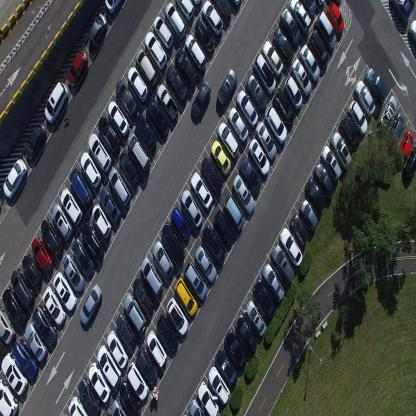car: (1, 352, 28, 396), (12, 337, 38, 379), (32, 304, 57, 347), (44, 81, 68, 125), (69, 165, 93, 209), (2, 285, 27, 327), (41, 284, 66, 326), (97, 344, 121, 387), (183, 261, 208, 302), (10, 267, 35, 308), (79, 282, 102, 326), (201, 224, 225, 266), (145, 95, 169, 137), (53, 270, 77, 312), (224, 328, 247, 371), (123, 291, 146, 334), (127, 132, 151, 173), (134, 47, 158, 88), (24, 321, 48, 362), (108, 166, 131, 208), (174, 46, 197, 88), (164, 0, 187, 42), (2, 158, 26, 198), (88, 132, 112, 172), (71, 237, 95, 277), (62, 252, 86, 292), (279, 226, 303, 266), (214, 347, 238, 387), (162, 221, 184, 264), (174, 276, 197, 317), (194, 244, 217, 285), (60, 187, 83, 228), (106, 329, 129, 370), (140, 255, 163, 296), (88, 361, 110, 403), (233, 174, 256, 214), (156, 82, 179, 122), (156, 312, 179, 352), (40, 217, 63, 257), (253, 54, 276, 94), (272, 244, 295, 284), (262, 262, 285, 302), (134, 346, 158, 384), (253, 278, 275, 319), (208, 365, 230, 406), (107, 99, 130, 138), (235, 314, 258, 353), (364, 67, 388, 104), (200, 156, 222, 196), (180, 189, 202, 229), (166, 63, 188, 103), (248, 137, 270, 177), (255, 121, 277, 161), (166, 296, 188, 336), (265, 105, 287, 145), (239, 156, 262, 194), (81, 222, 104, 260), (115, 80, 138, 118), (51, 204, 74, 242), (144, 30, 167, 68), (78, 377, 101, 415), (261, 39, 284, 77), (315, 10, 336, 51), (100, 184, 122, 223), (152, 240, 174, 279), (98, 115, 120, 154), (134, 113, 156, 152), (184, 34, 206, 73), (330, 130, 352, 169), (245, 73, 268, 110), (146, 329, 167, 369), (190, 172, 212, 210), (227, 106, 249, 144), (132, 275, 154, 313), (24, 121, 46, 159), (31, 236, 53, 274), (236, 89, 258, 127), (272, 86, 294, 124), (312, 162, 334, 200), (118, 379, 141, 415), (309, 28, 329, 69), (80, 151, 101, 190), (291, 57, 312, 96), (288, 0, 312, 34), (127, 66, 149, 103), (67, 48, 88, 86), (216, 68, 237, 106), (218, 122, 240, 158), (320, 145, 342, 181), (196, 381, 219, 415), (300, 43, 320, 82), (223, 195, 244, 232), (210, 139, 231, 176), (273, 27, 294, 64), (355, 79, 376, 116), (214, 210, 234, 248), (246, 299, 266, 337), (191, 80, 211, 118), (280, 7, 300, 45), (170, 206, 191, 242), (92, 202, 113, 238), (201, 0, 222, 36), (340, 114, 360, 151), (116, 313, 136, 349), (22, 252, 42, 288), (194, 18, 214, 54), (378, 96, 398, 132), (153, 15, 174, 49), (349, 99, 368, 136), (119, 151, 139, 186), (305, 177, 325, 212), (88, 13, 108, 47), (0, 379, 18, 415), (326, 1, 344, 36), (388, 112, 406, 147), (299, 198, 318, 231), (0, 305, 16, 344), (284, 75, 302, 109), (290, 213, 308, 246), (390, 0, 413, 25), (398, 129, 414, 162), (403, 146, 416, 182), (211, 0, 232, 20), (175, 0, 195, 20), (68, 396, 88, 415), (110, 398, 127, 416), (189, 398, 205, 416), (104, 0, 124, 14), (300, 0, 316, 15), (408, 16, 416, 45), (0, 343, 7, 361), (314, 0, 326, 7), (231, 0, 242, 7), (191, 0, 202, 6)
